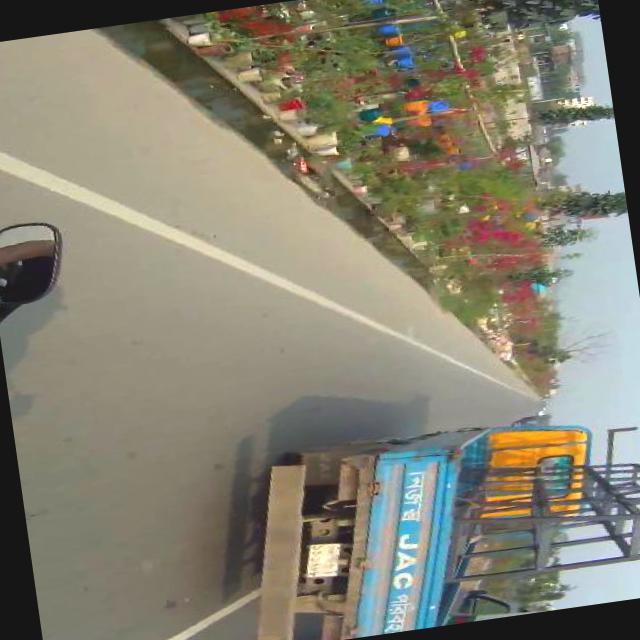truck: (230, 403, 618, 640)
